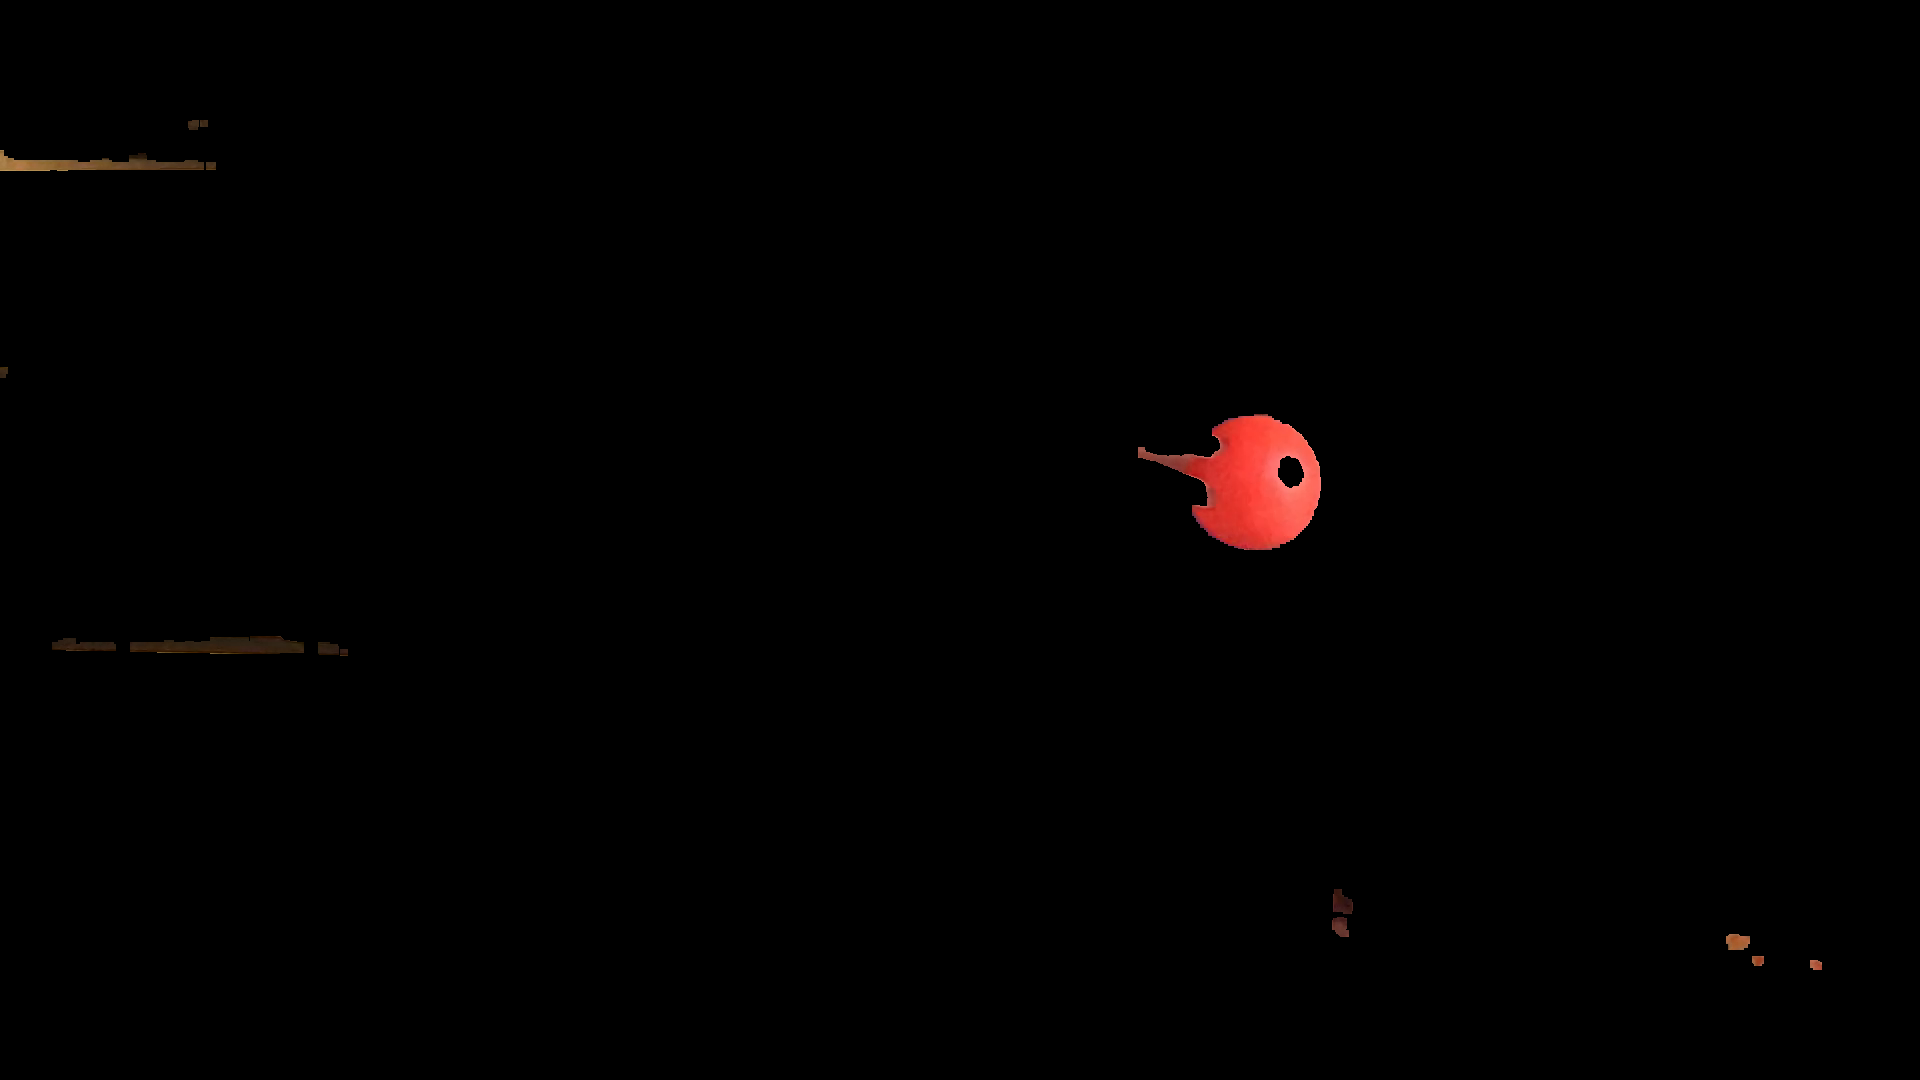Ball: (1193, 410, 1317, 551)
